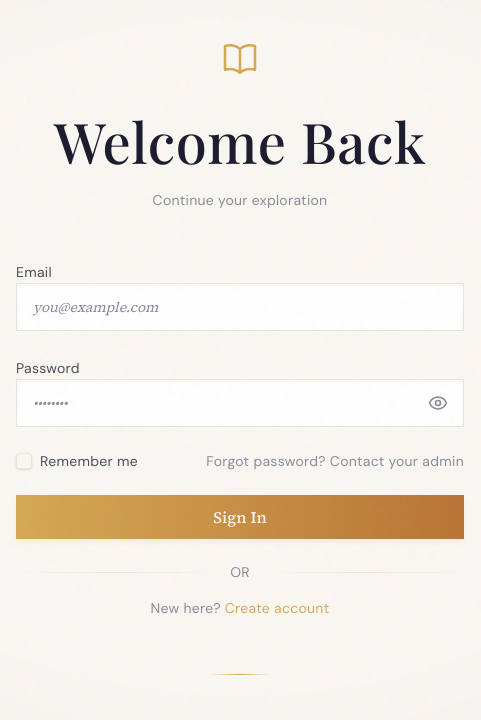
Test: LoginPage › Form Validation › should show validation error for invalid email
Type "invalid-email" into the field labelled "Email" at [240, 307], box [16,283,464,331]
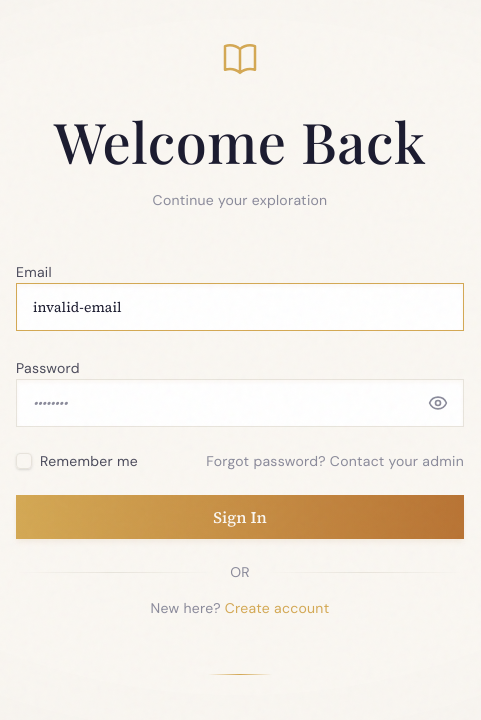
Submit the form, box [16,259,464,626]
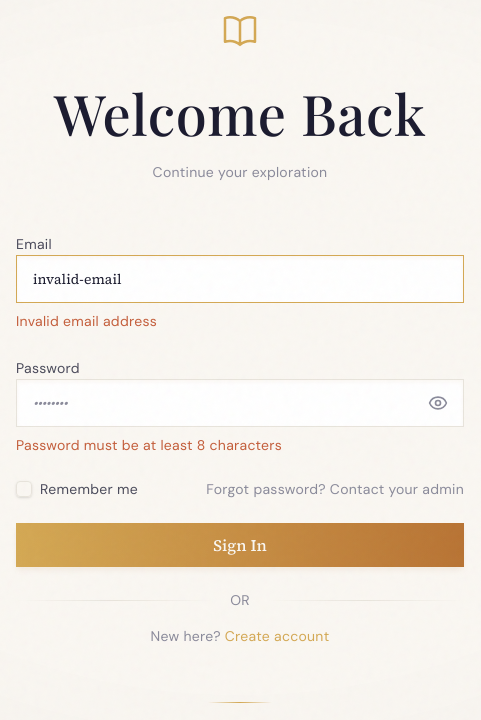
Expected: the text "Invalid email address" is shown, [16,312,157,330]
